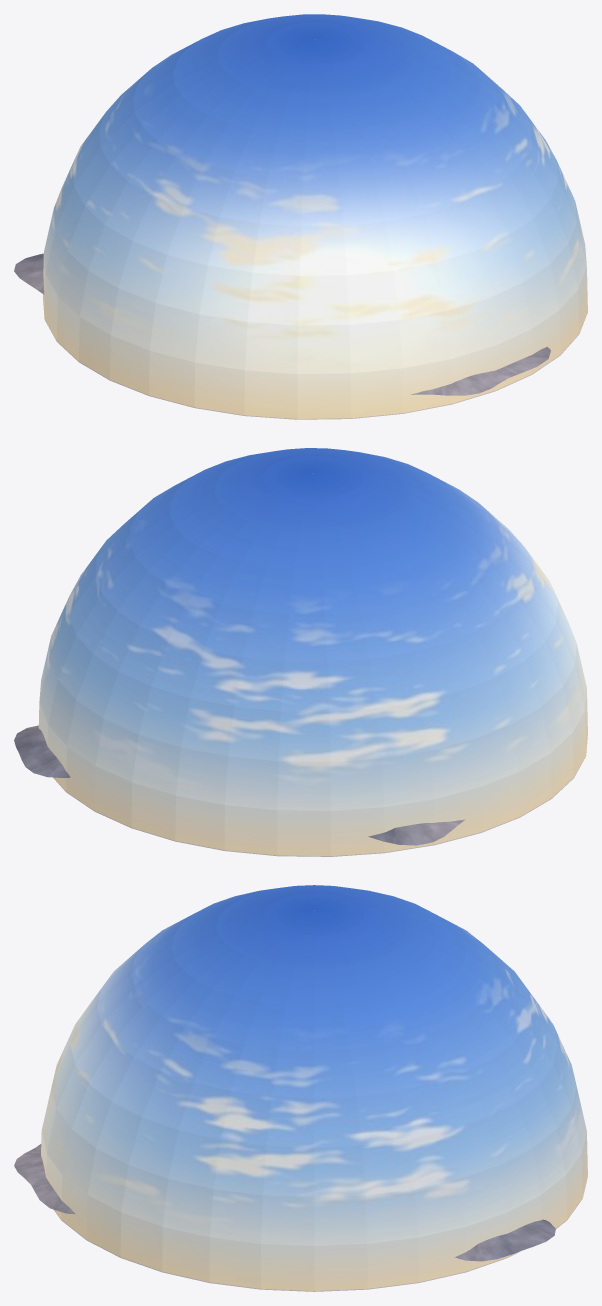
The model's file is lugar-guadalajara-ciudad.glb.
The picture shows the model from 3 angles, top to bottom: view 1: azimuth 30°, elevation 25°; view 2: azimuth 150°, elevation 25°; view 3: azimuth 270°, elevation 25°; orthographic projection.
Visible parts, largest first — view 1: planoC, vertT; view 2: planoC, vertT; view 3: planoC, vertT.
Boxes of the visible parts, bbox=[...] form: planoC: bbox=[43, 14, 587, 419]; vertT: bbox=[14, 253, 550, 395]; planoC: bbox=[38, 448, 587, 856]; vertT: bbox=[14, 725, 465, 845]; planoC: bbox=[41, 885, 587, 1291]; vertT: bbox=[14, 1144, 555, 1261].
Size of the model in its own units: 6584 by 3530 by 6902.
Materials: 13 (12 with a texture image).
